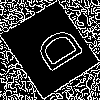D: (25, 24, 86, 80)
